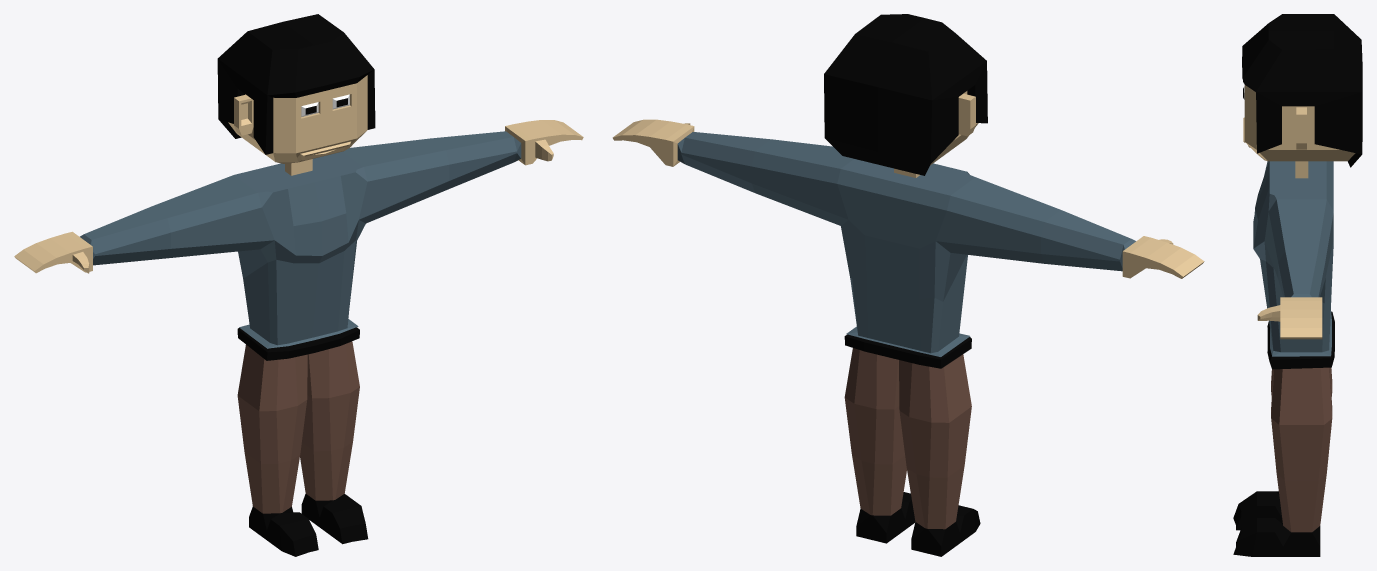
File: citizen.fbx
3 views of the same model, side by side, from view 1: azimuth 30°, elevation 25°; view 2: azimuth 150°, elevation 25°; view 3: azimuth 270°, elevation 25° (orthographic). The views are drawn at different scales.
Visible parts, largest first — view 1: simple male ch; view 2: simple male ch; view 3: simple male ch.
Part boxes in pixels (x1,y1,x2,y2): simple male ch: (14, 14, 583, 556); simple male ch: (612, 14, 1204, 556); simple male ch: (1233, 14, 1362, 556).
Bounding box in the file's own units: 1041 × 888 × 206.
